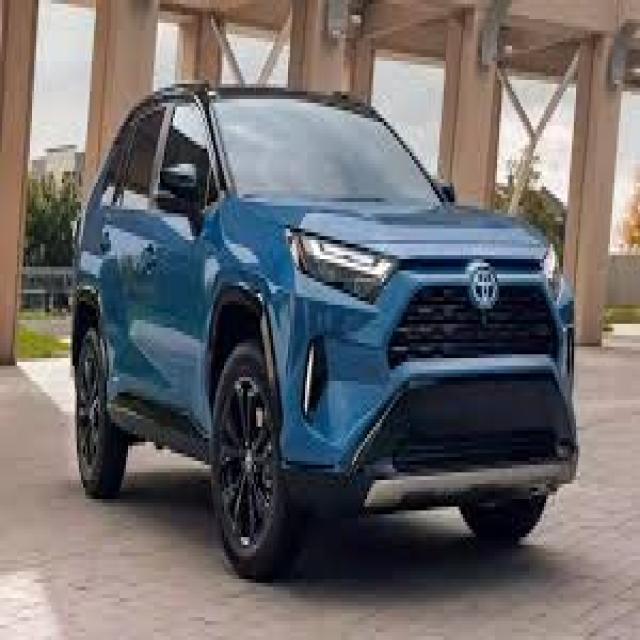light_vehicle: (69, 82, 580, 581)
